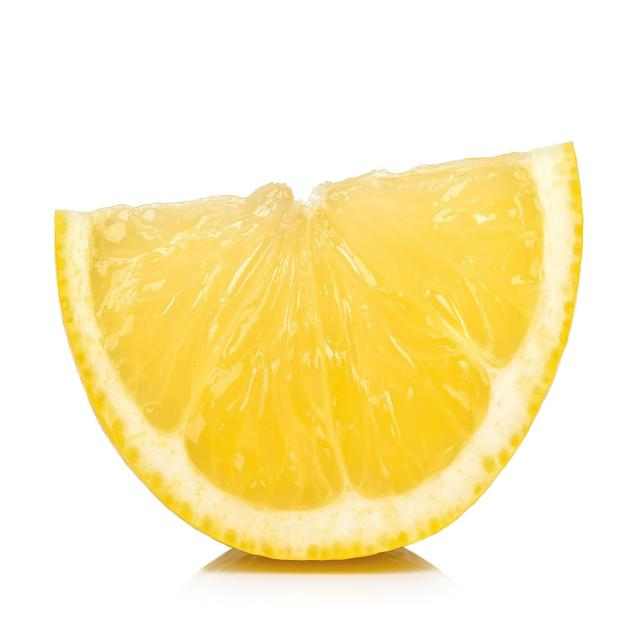lemon: (50, 136, 587, 566)
